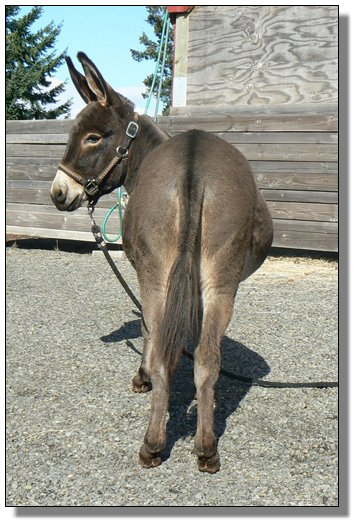donkey: (51, 53, 275, 475)
